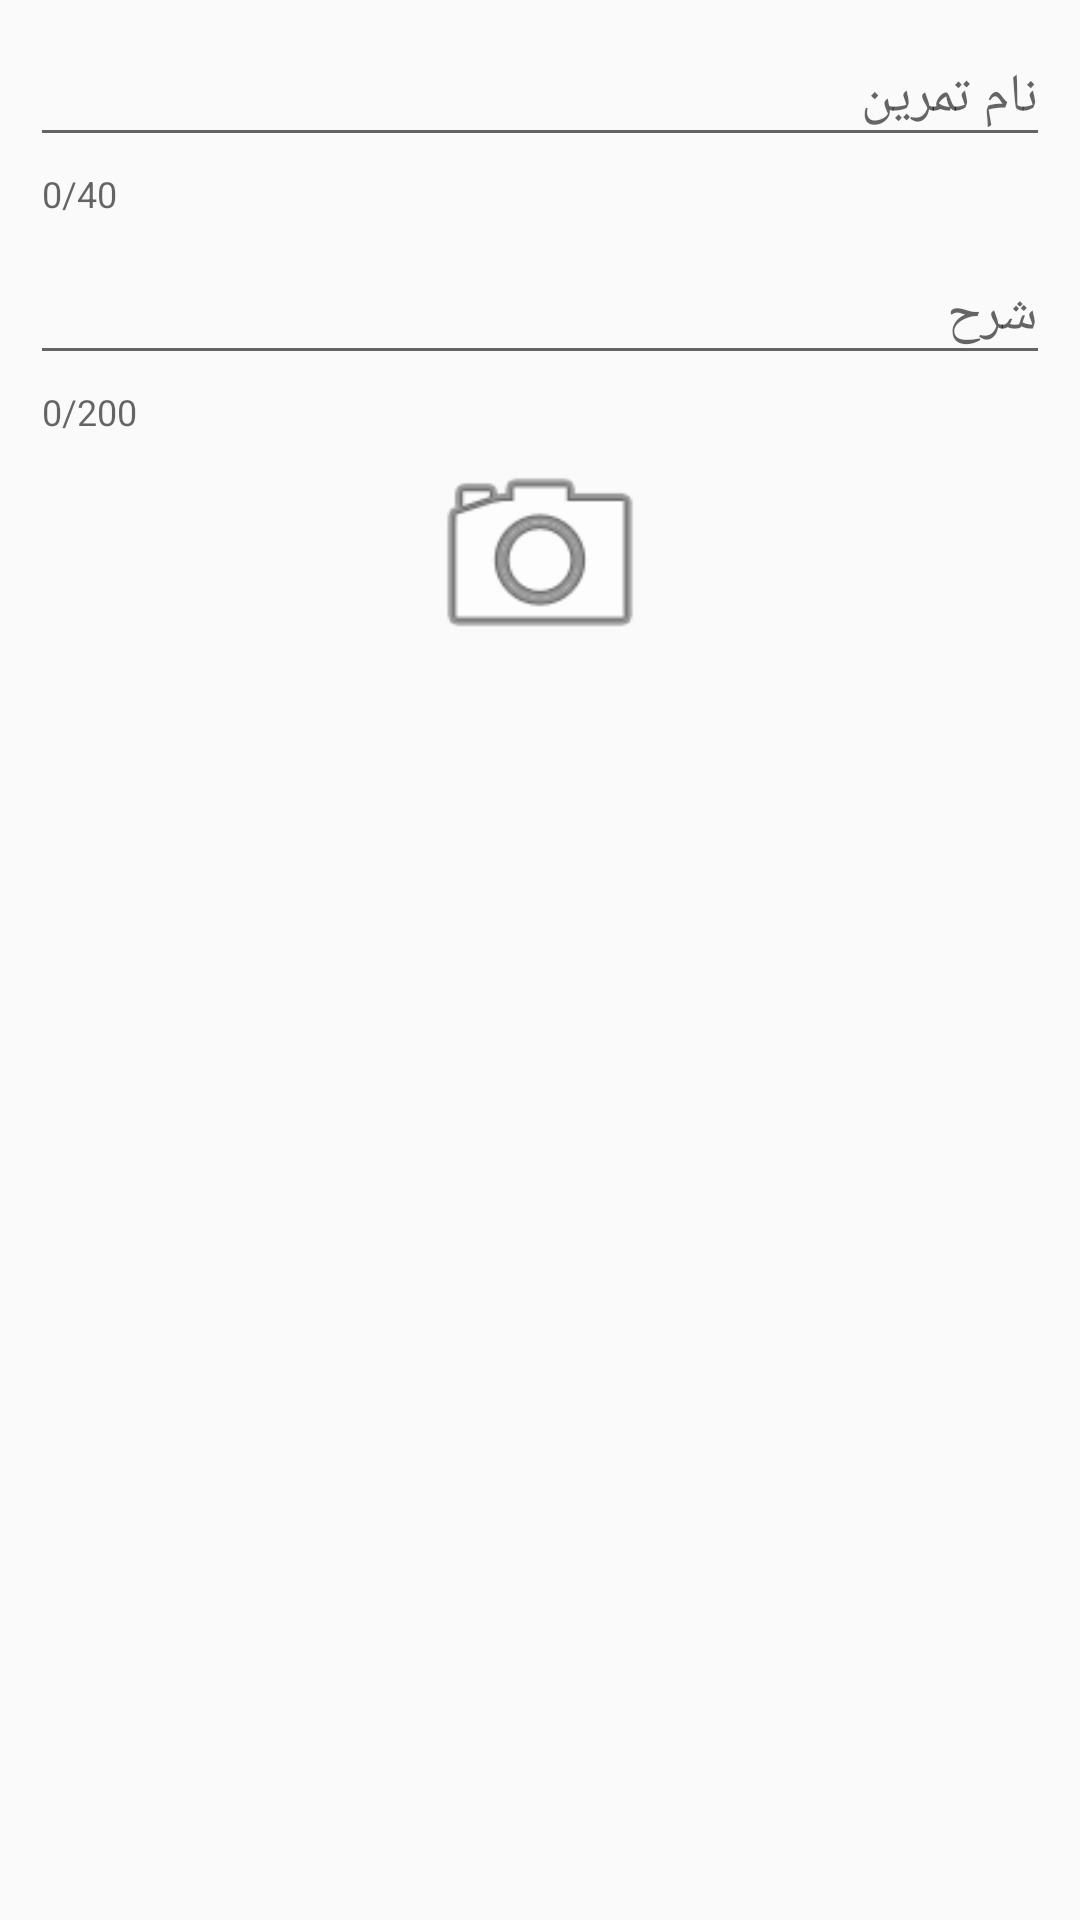

Screen size 1080 x 1920. Icon name, then its box in pixels as (x1, y1, x2, y2):
camera: (447, 478, 633, 626)
